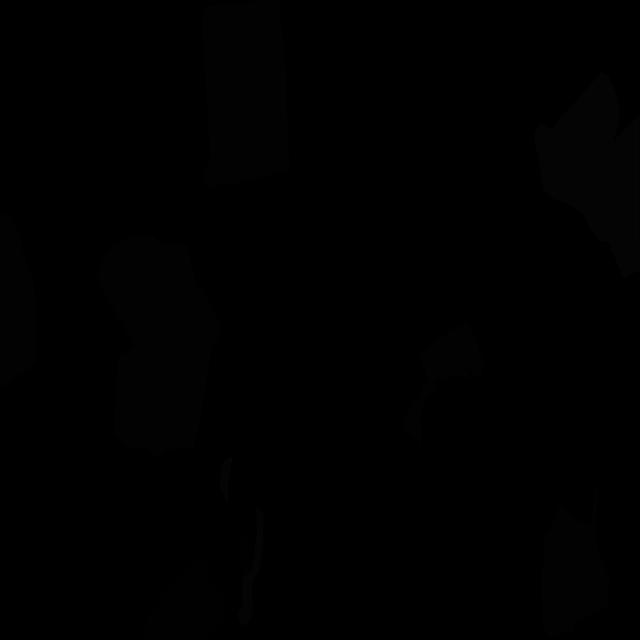cardboard: (96, 234, 220, 457), (202, 0, 290, 188), (402, 321, 486, 447), (541, 486, 611, 637), (0, 212, 36, 387)
rigid_plastic: (142, 551, 227, 640), (242, 528, 256, 577)
soft_plastic: (534, 72, 640, 277), (238, 508, 264, 626), (220, 457, 233, 502)
